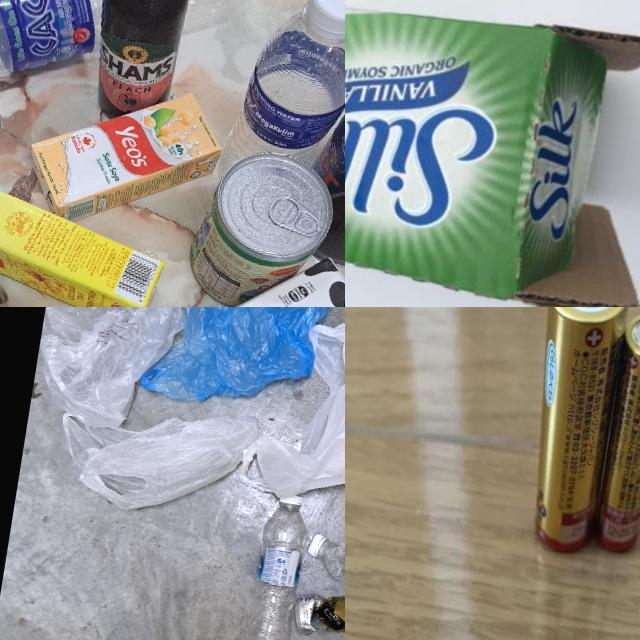aba de lata: (266, 190, 327, 238)
bateria: (507, 307, 640, 558), (583, 307, 640, 564)
caixinha: (15, 68, 230, 232), (0, 213, 345, 307), (0, 182, 170, 307)
garrafa de vidro: (82, 0, 213, 132)
garrafa plástica: (0, 0, 262, 116), (226, 0, 345, 206), (243, 500, 312, 640), (313, 538, 345, 612)
lata: (187, 148, 339, 307), (291, 587, 345, 640)
papelão: (345, 0, 640, 307)
sacola plástica: (49, 393, 260, 531), (136, 307, 341, 423), (28, 307, 206, 439), (240, 312, 345, 525)
tampa plástica: (309, 0, 345, 36), (307, 532, 329, 558), (279, 494, 302, 506)
